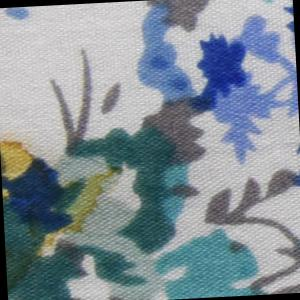Oil Stain: (1, 132, 126, 294)
